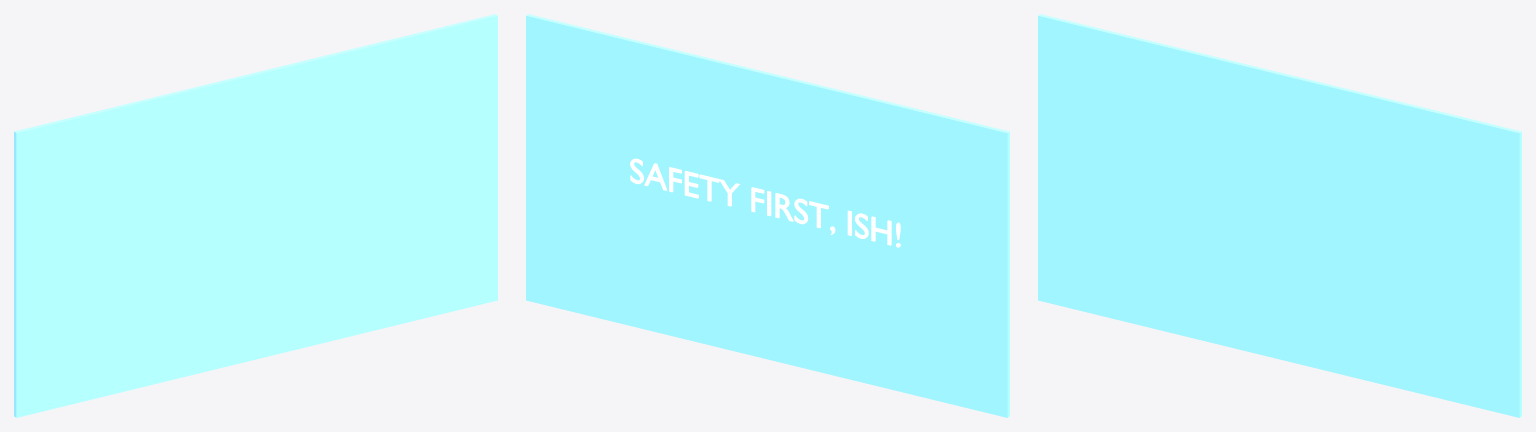
The model's file is tv_safety_show.glb.
3 views of the same model, side by side, from view 1: azimuth 30°, elevation 25°; view 2: azimuth 150°, elevation 25°; view 3: azimuth 330°, elevation 25° (orthographic).
Parts seen in each view (by area): view 1: tv_safety_show; view 2: tv_safety_show; view 3: tv_safety_show.
Part boxes in pixels (x1,y1,x2,y2): tv_safety_show: (14,14,497,417); tv_safety_show: (526,14,1009,417); tv_safety_show: (1038,14,1521,417).
Size of the model in its own units: 1.15 by 0.65 by 0.015.
